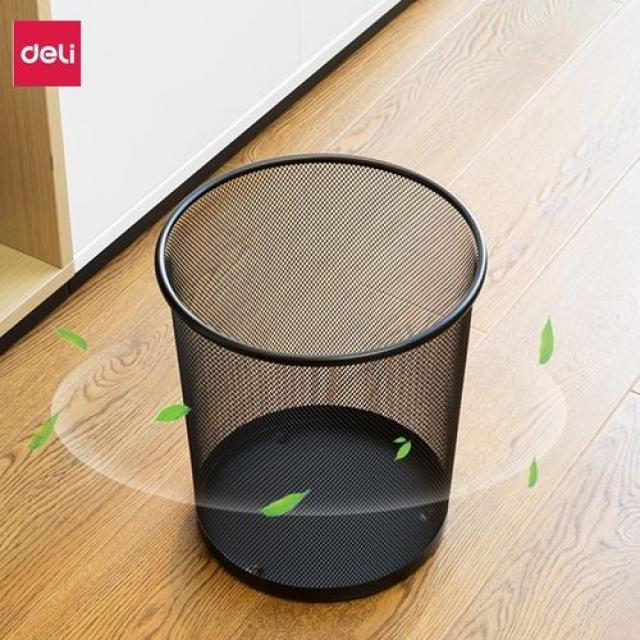dustbin: (151, 144, 491, 606)
